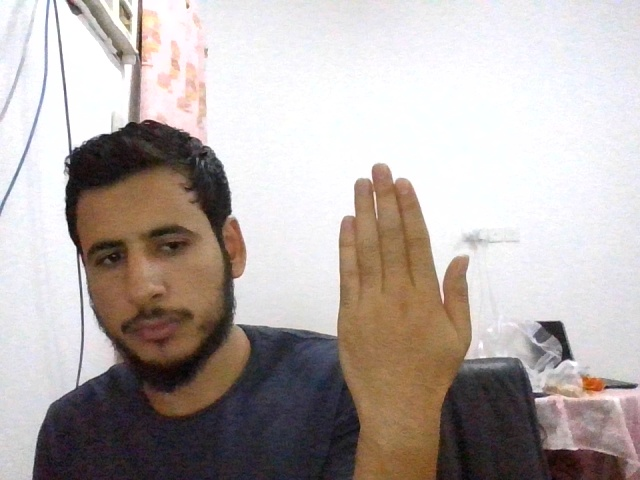Five: (337, 164, 473, 422)
